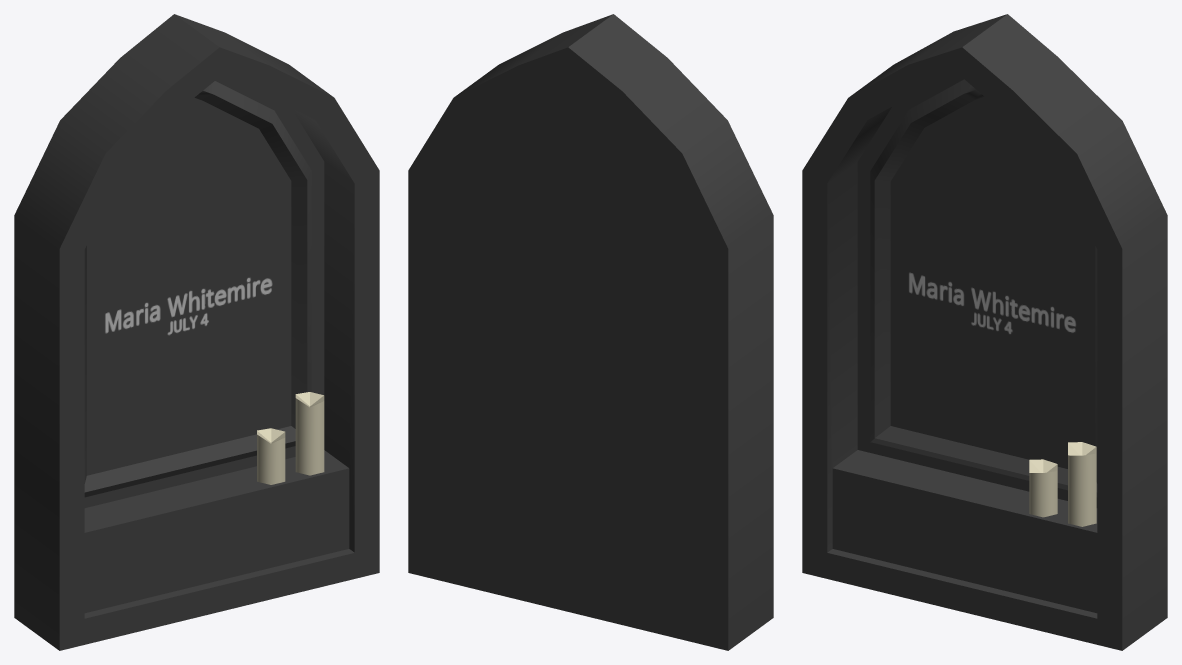
File: Dest_Garden_Grave.FBX
The picture shows the model from 3 angles, left to right: view 1: azimuth 30°, elevation 25°; view 2: azimuth 150°, elevation 25°; view 3: azimuth 330°, elevation 25°; orthographic projection.
Parts seen in each view (by area): view 1: Object002; view 2: Object002; view 3: Object002.
Boxes of the visible parts, left/top/right/bottom form: Object002: left=14, top=14, right=379, bottom=650; Object002: left=408, top=14, right=773, bottom=650; Object002: left=802, top=14, right=1167, bottom=650.
Size of the model in its own units: 5.61 by 9.45 by 1.38.
